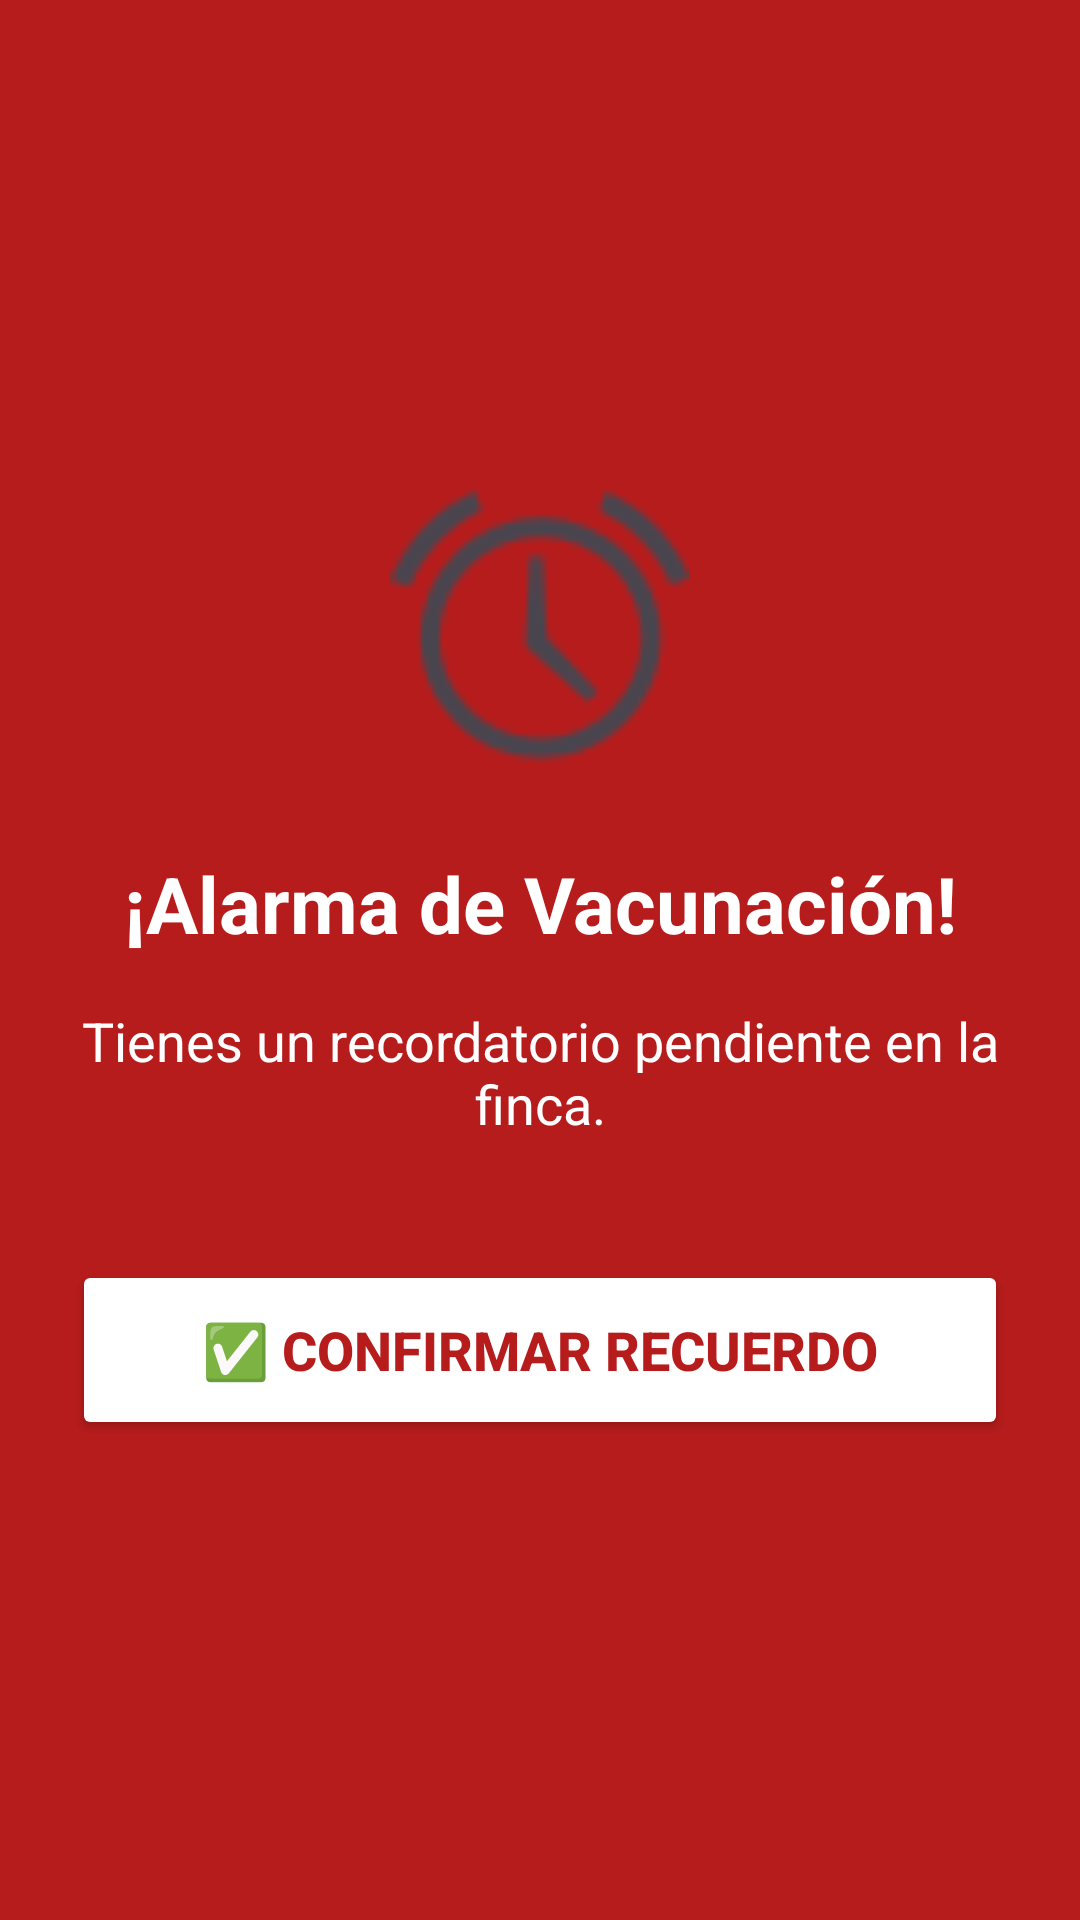

Named icons in this screenshot (1080×1920) and their centers, point (x, y):
lock idle alarm: point (540, 625)
